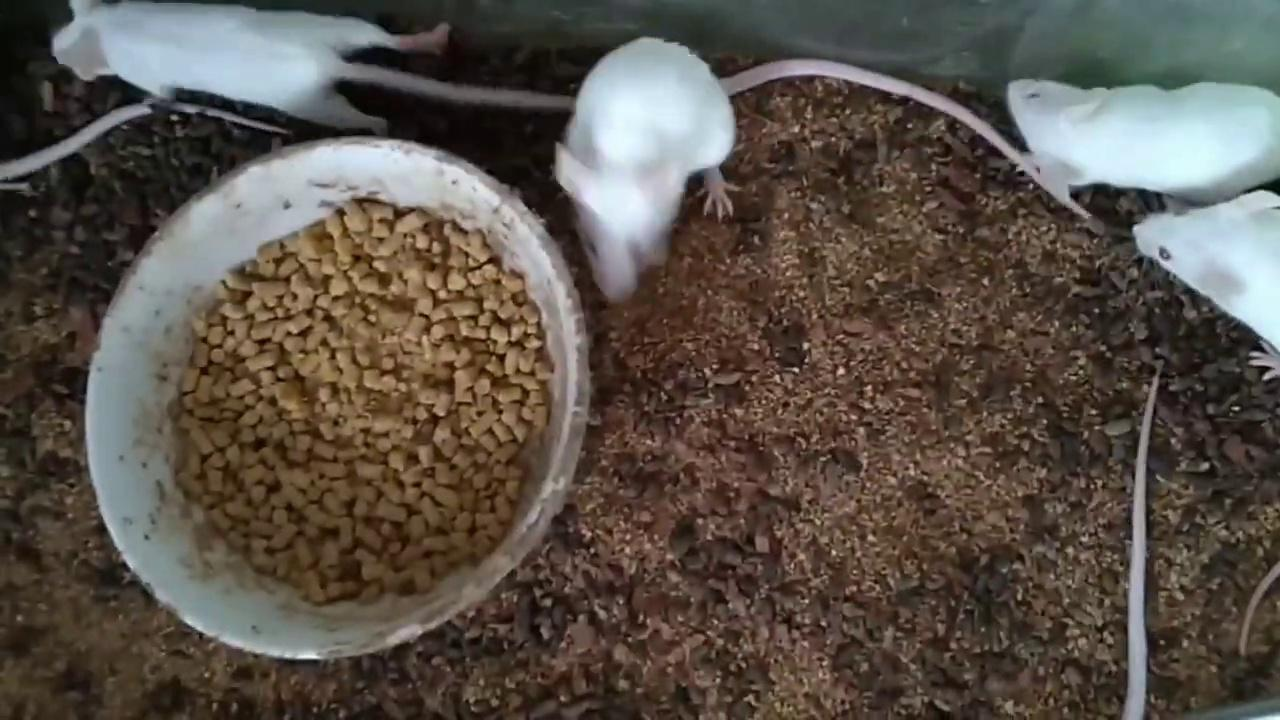rat: (557, 36, 1091, 299), (52, 0, 576, 138), (1009, 80, 1280, 200), (1135, 191, 1280, 380)
